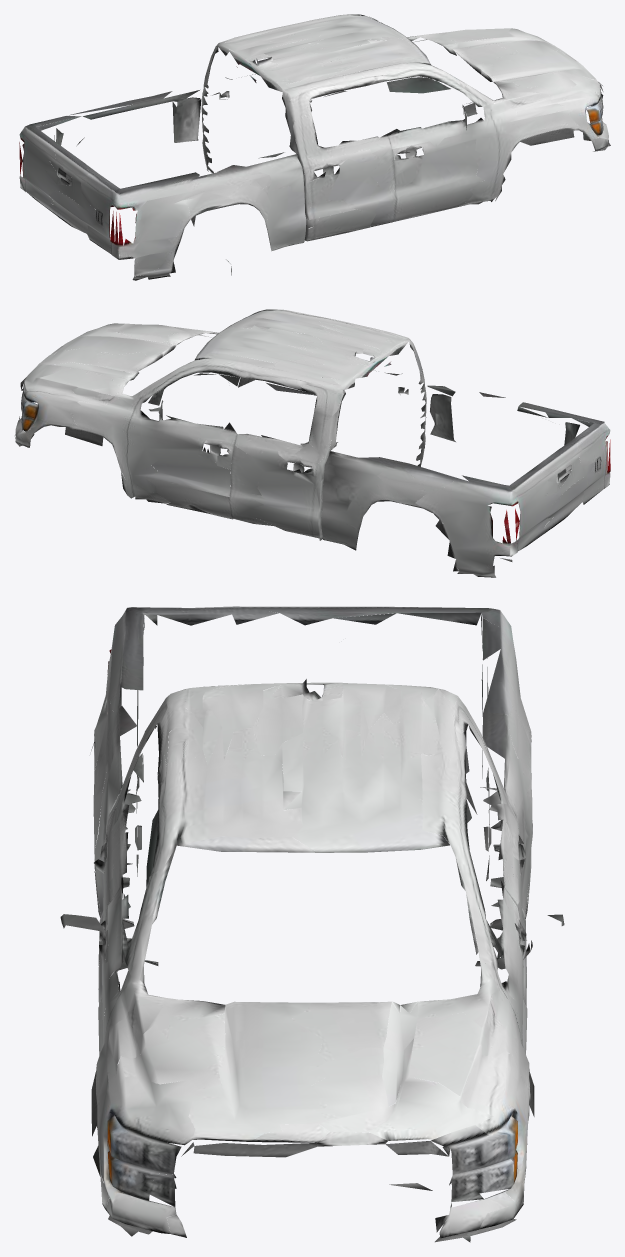
File: pickup-paint.glb
3 views of the same model, one above another, from view 1: azimuth 30°, elevation 25°; view 2: azimuth 150°, elevation 25°; view 3: azimuth 270°, elevation 25° (orthographic). The views are drawn at different scales.
Visible parts, largest first — view 1: tripo_node_c21173f7-2291-465e-98a5-7c17655c5f55; view 2: tripo_node_c21173f7-2291-465e-98a5-7c17655c5f55; view 3: tripo_node_c21173f7-2291-465e-98a5-7c17655c5f55.
Boxes of the visible parts, bbox=[...] form: tripo_node_c21173f7-2291-465e-98a5-7c17655c5f55: bbox=[19, 14, 610, 280]; tripo_node_c21173f7-2291-465e-98a5-7c17655c5f55: bbox=[15, 309, 610, 577]; tripo_node_c21173f7-2291-465e-98a5-7c17655c5f55: bbox=[60, 606, 564, 1242].
Bounding box in the file's own units: 5.78 × 1.8 × 2.46.
Materials: 1 (1 with a texture image).
